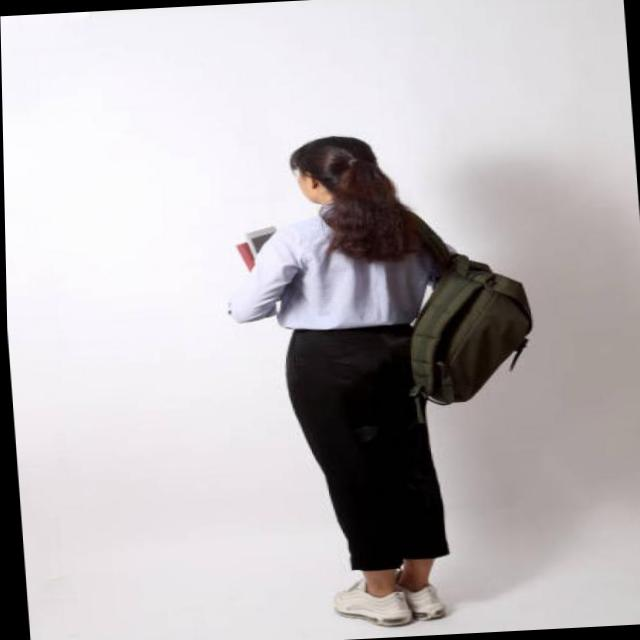no helmet: (258, 122, 404, 246)
